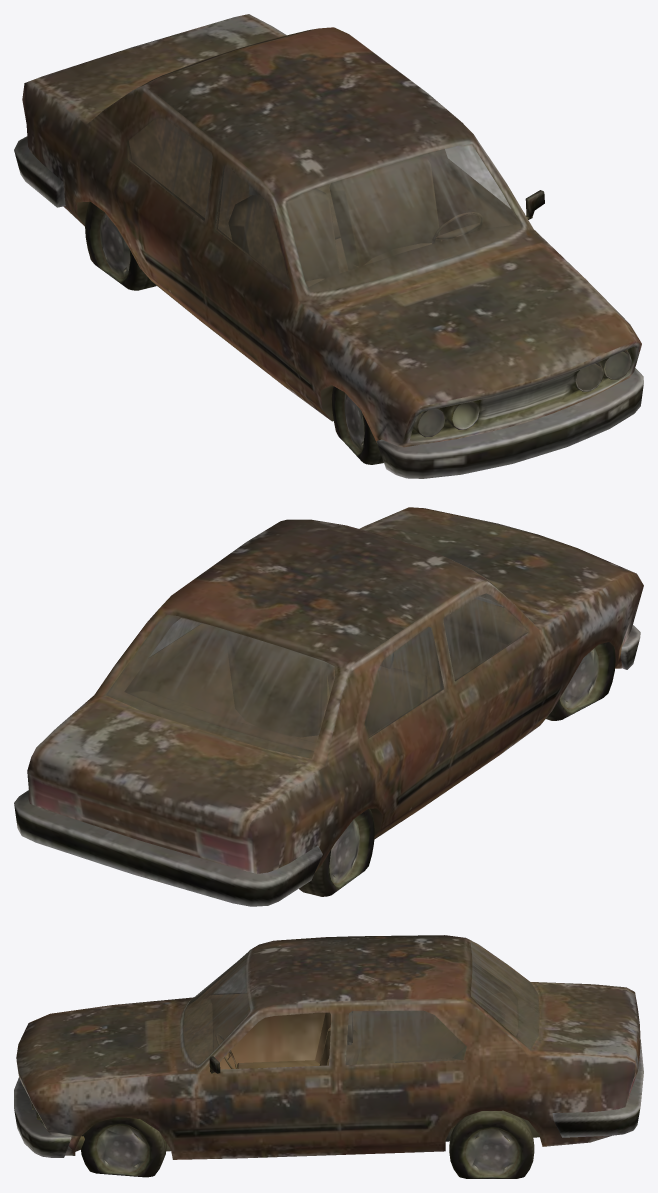
Rendered from p_fiat132_abandoned.glb.
The picture shows the model from 3 angles, top to bottom: view 1: azimuth 30°, elevation 25°; view 2: azimuth 150°, elevation 25°; view 3: azimuth 270°, elevation 25°; orthographic projection. The views are drawn at different scales.
Parts seen in each view (by area): view 1: Object_2; view 2: Object_2; view 3: Object_2.
Part boxes in pixels (bbox=[...]): Object_2: bbox=[14, 14, 643, 478]; Object_2: bbox=[14, 507, 643, 906]; Object_2: bbox=[14, 935, 643, 1178].
Bounding box in the file's own units: 1676 × 1311 × 4378.
1 material, 1 textured.
